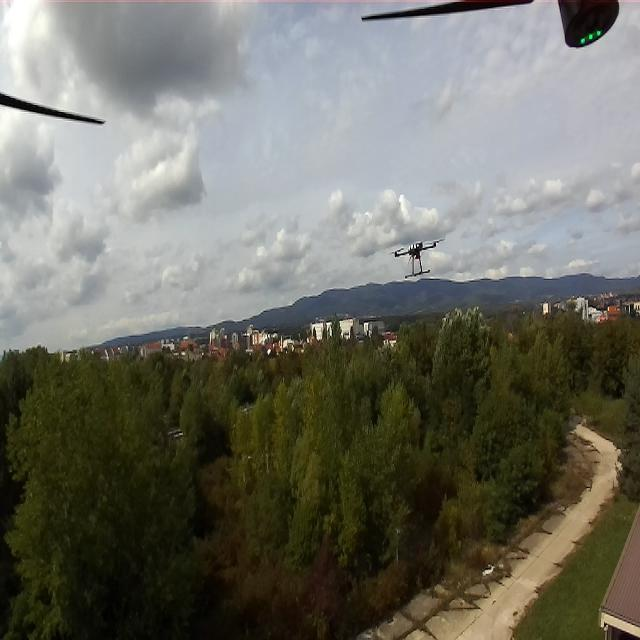UAV: (385, 229, 445, 282)
